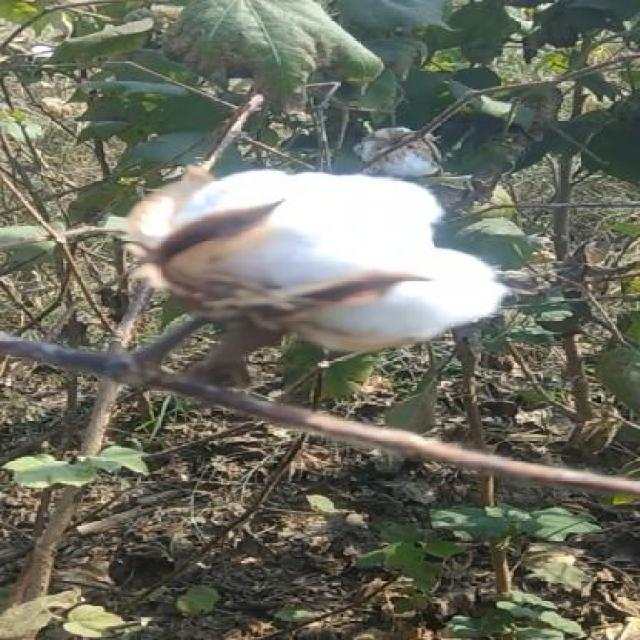cotton_ready: (112, 136, 472, 424)
